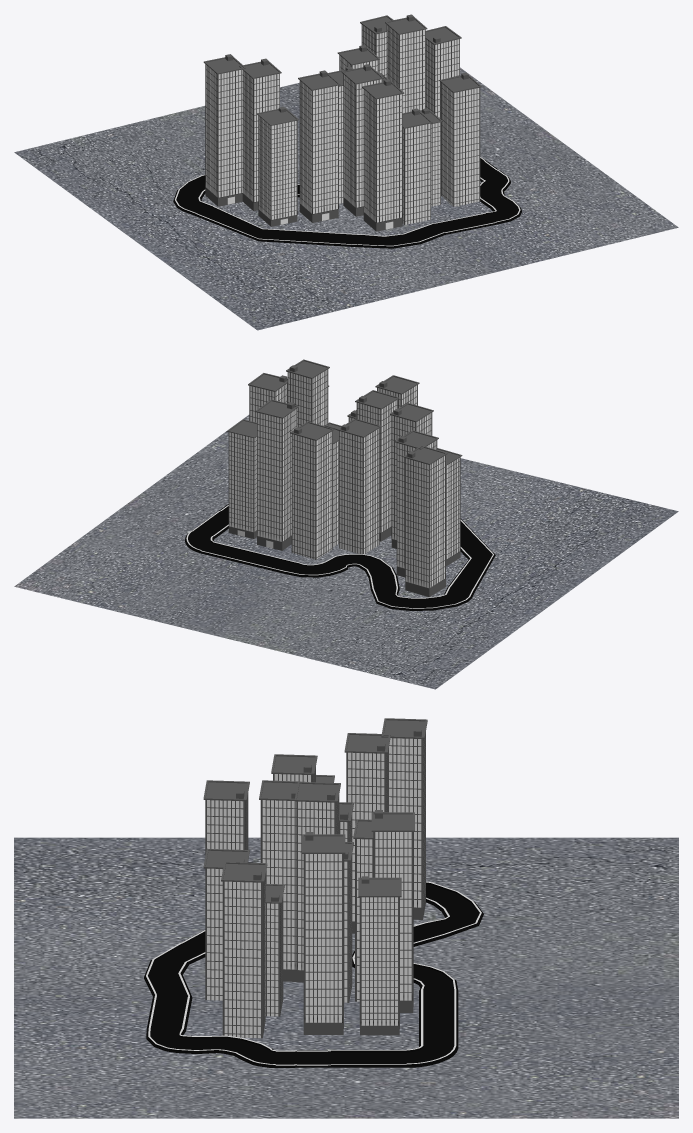
The model's file is Track.fbx.
3 views of the same model, one above another, from view 1: azimuth 30°, elevation 25°; view 2: azimuth 150°, elevation 25°; view 3: azimuth 270°, elevation 25° (orthographic). The views are drawn at different scales.
Visible parts, largest first — view 1: Plane, Cube, Skyscraper.009, Skyscraper.007, Skyscraper.005, Skyscraper.003, Skyscraper.010, Skyscraper.011, Skyscraper.006, Skyscraper.013, Skyscraper.008, Skyscraper (+4 smaller); view 2: Plane, Cube, Skyscraper.005, Skyscraper.015, Skyscraper.012, Skyscraper.002, Skyscraper.001, Skyscraper.006, Skyscraper.013, Skyscraper.011, Skyscraper.009, Skyscraper.010 (+3 smaller); view 3: Plane, Cube, Skyscraper, Skyscraper.003, Skyscraper.001, Skyscraper.006, Skyscraper.005, Skyscraper.002, Skyscraper.011, Skyscraper.013, Skyscraper.008, Skyscraper.007 (+4 smaller).
Boxes of the visible parts, x1,y1,x2,y2 form: Plane: (14, 67, 678, 330); Cube: (173, 156, 521, 248); Skyscraper.009: (298, 70, 340, 222); Skyscraper.007: (362, 79, 404, 231); Skyscraper.005: (203, 54, 245, 206); Skyscraper.003: (439, 72, 481, 206); Skyscraper.010: (256, 106, 298, 226); Skyscraper.011: (239, 58, 281, 210); Skyscraper.006: (341, 64, 383, 216); Skyscraper.013: (385, 14, 427, 113); Skyscraper.008: (402, 108, 432, 224); Skyscraper: (425, 26, 461, 119); Plane: (14, 415, 678, 689); Cube: (185, 504, 495, 610); Skyscraper.005: (403, 445, 447, 597); Skyscraper.015: (290, 421, 333, 559); Skyscraper.012: (337, 418, 381, 554); Skyscraper.002: (255, 399, 298, 550); Skyscraper.001: (227, 419, 256, 538); Skyscraper.006: (355, 390, 399, 541); Skyscraper.013: (286, 359, 329, 427); Skyscraper.011: (395, 430, 438, 577); Skyscraper.009: (390, 403, 433, 548); Skyscraper.010: (437, 448, 462, 566); Plane: (14, 837, 678, 1118); Cube: (144, 881, 483, 1067); Skyscraper: (302, 832, 345, 1034); Skyscraper.003: (221, 862, 267, 1038); Skyscraper.001: (358, 876, 401, 1035); Skyscraper.006: (259, 780, 304, 981); Skyscraper.005: (381, 718, 427, 919); Skyscraper.002: (371, 810, 414, 1012); Skyscraper.011: (344, 733, 390, 933); Skyscraper.013: (294, 781, 340, 982); Skyscraper.008: (203, 848, 249, 1000); Skyscraper.007: (203, 780, 249, 855).
Bounding box in the file's own units: 4292 × 1943 × 4292.
Materials: 35 (1 with a texture image).
